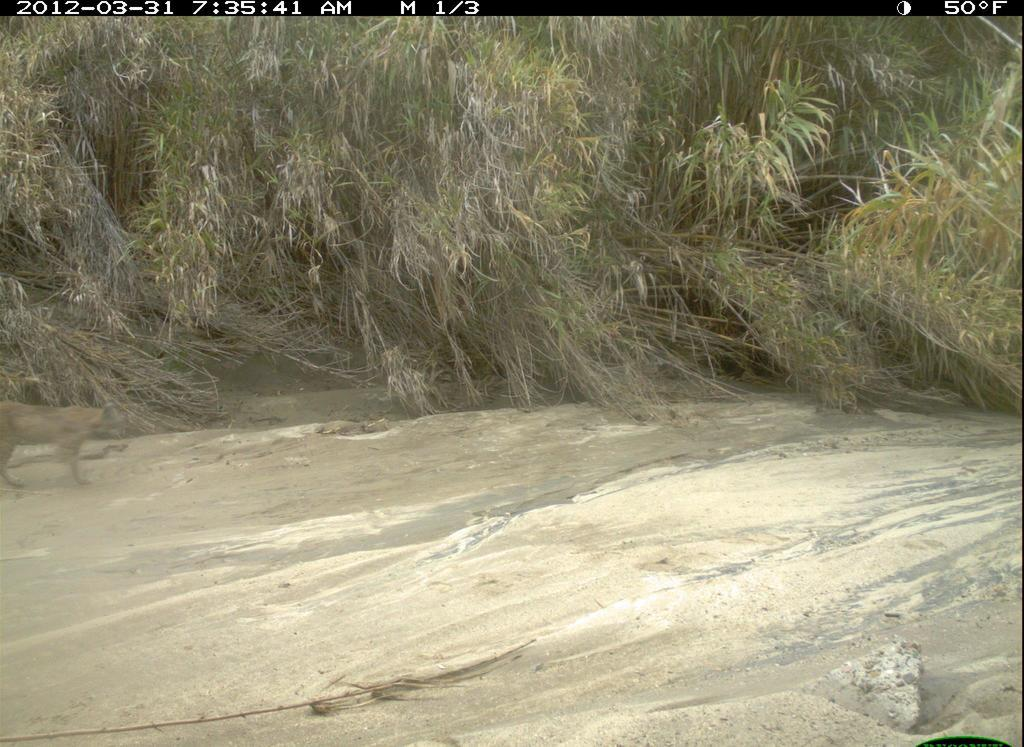bobcat: (7, 388, 129, 497)
